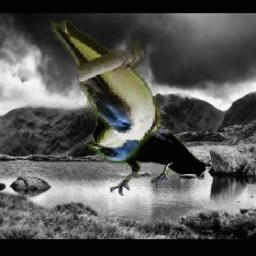Crow: (93, 106, 207, 196)
Swallow: (51, 20, 160, 163)
